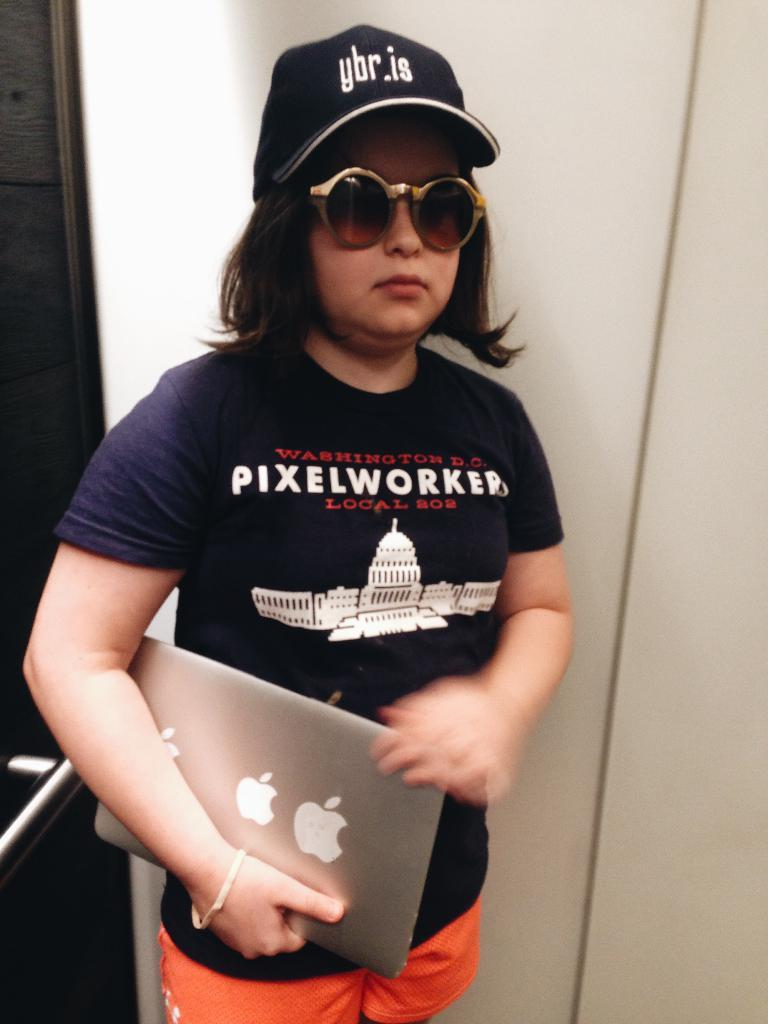Hat: (246, 68, 498, 230)
